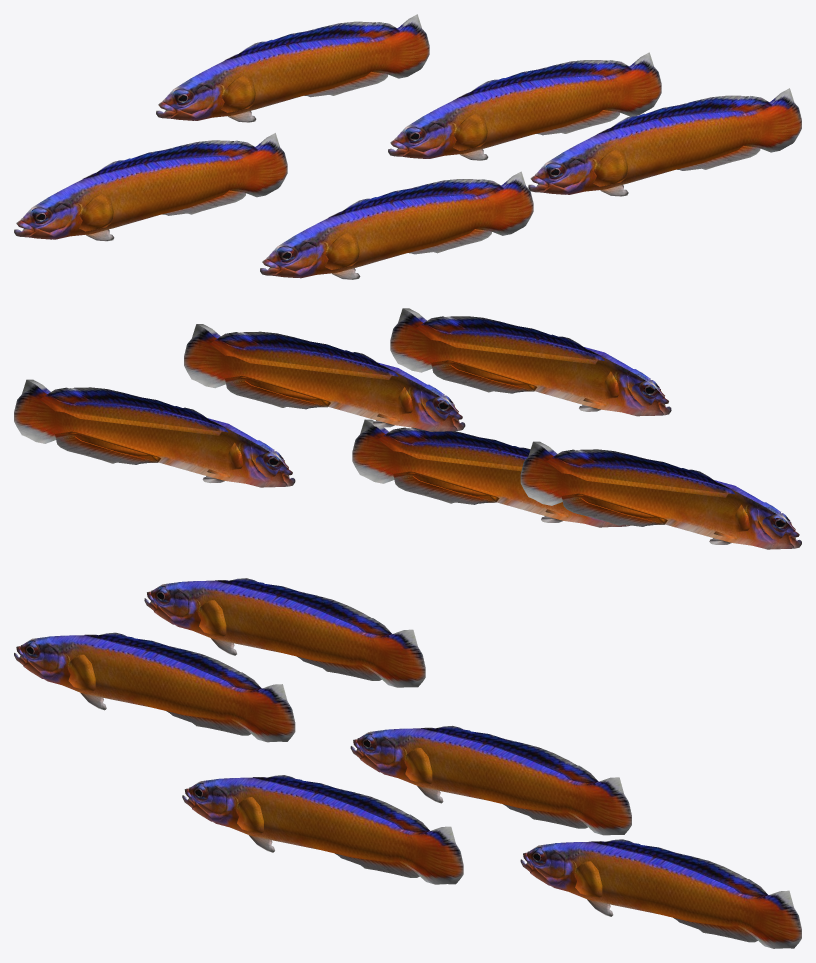
Rendered from neonFish.glb.
The picture shows the model from 3 angles, top to bottom: view 1: azimuth 30°, elevation 25°; view 2: azimuth 150°, elevation 25°; view 3: azimuth 330°, elevation 25°; orthographic projection. The views are drawn at different scales.
Visible parts, largest first — view 1: Cube.003, Cube, Cube.004, Cube.002, Cube.001; view 2: Cube.002, Cube.001, Cube.004, Cube.003, Cube; view 3: Cube, Cube.002, Cube.003, Cube.004, Cube.001.
Part boxes in pixels (left/top/right/bottom): Cube.003: left=156, top=14, right=429, bottom=122; Cube: left=260, top=171, right=533, bottom=279; Cube.004: left=528, top=88, right=801, bottom=196; Cube.002: left=14, top=133, right=287, bottom=241; Cube.001: left=388, top=52, right=661, bottom=160; Cube.002: left=520, top=441, right=801, bottom=549; Cube.001: left=184, top=324, right=465, bottom=431; Cube.004: left=14, top=379, right=295, bottom=487; Cube.003: left=390, top=308, right=671, bottom=416; Cube: left=352, top=419, right=630, bottom=527; Cube: left=182, top=775, right=463, bottom=884; Cube.002: left=14, top=632, right=295, bottom=742; Cube.003: left=144, top=578, right=425, bottom=687; Cube.004: left=520, top=839, right=801, bottom=948; Cube.001: left=350, top=725, right=631, bottom=835.
Bounding box in the file's own units: 13.55 × 3.92 × 1.55.
Materials: 2 (2 with a texture image).
